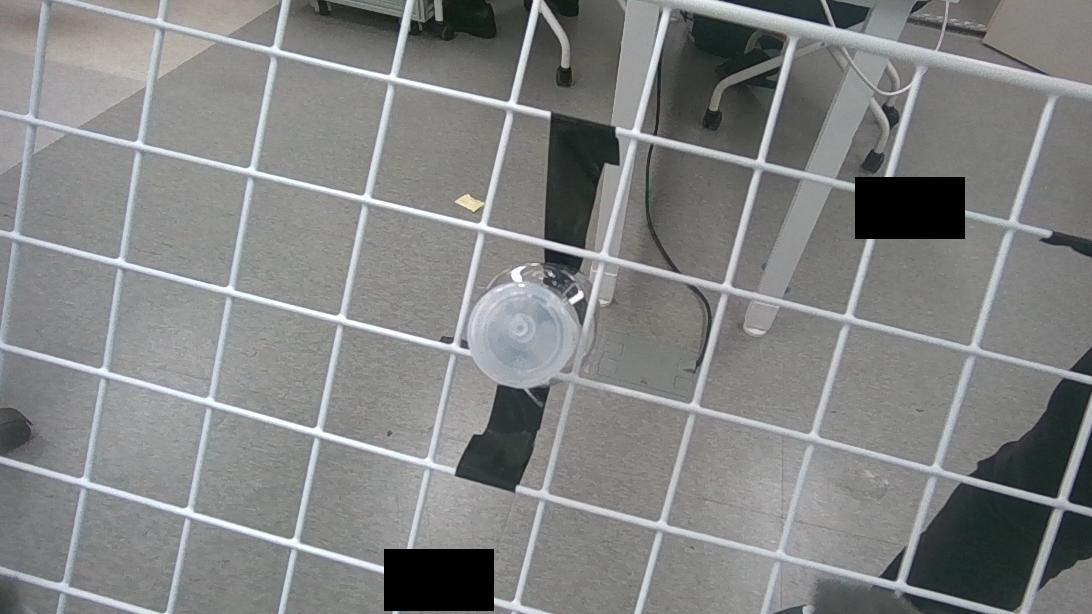Cap: (466, 277, 581, 394)
